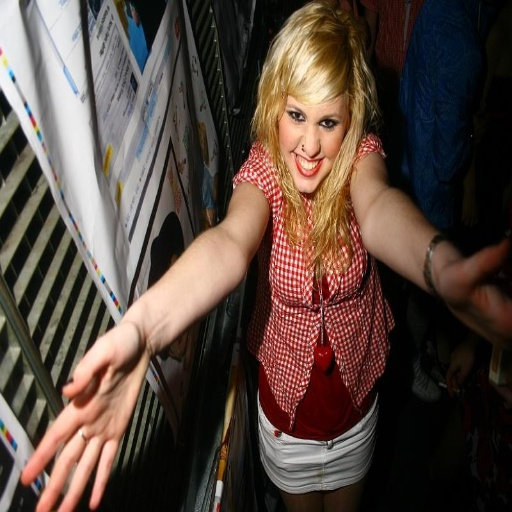hand: (37, 311, 144, 471), (438, 239, 511, 361), (444, 340, 472, 398), (486, 355, 511, 407)
